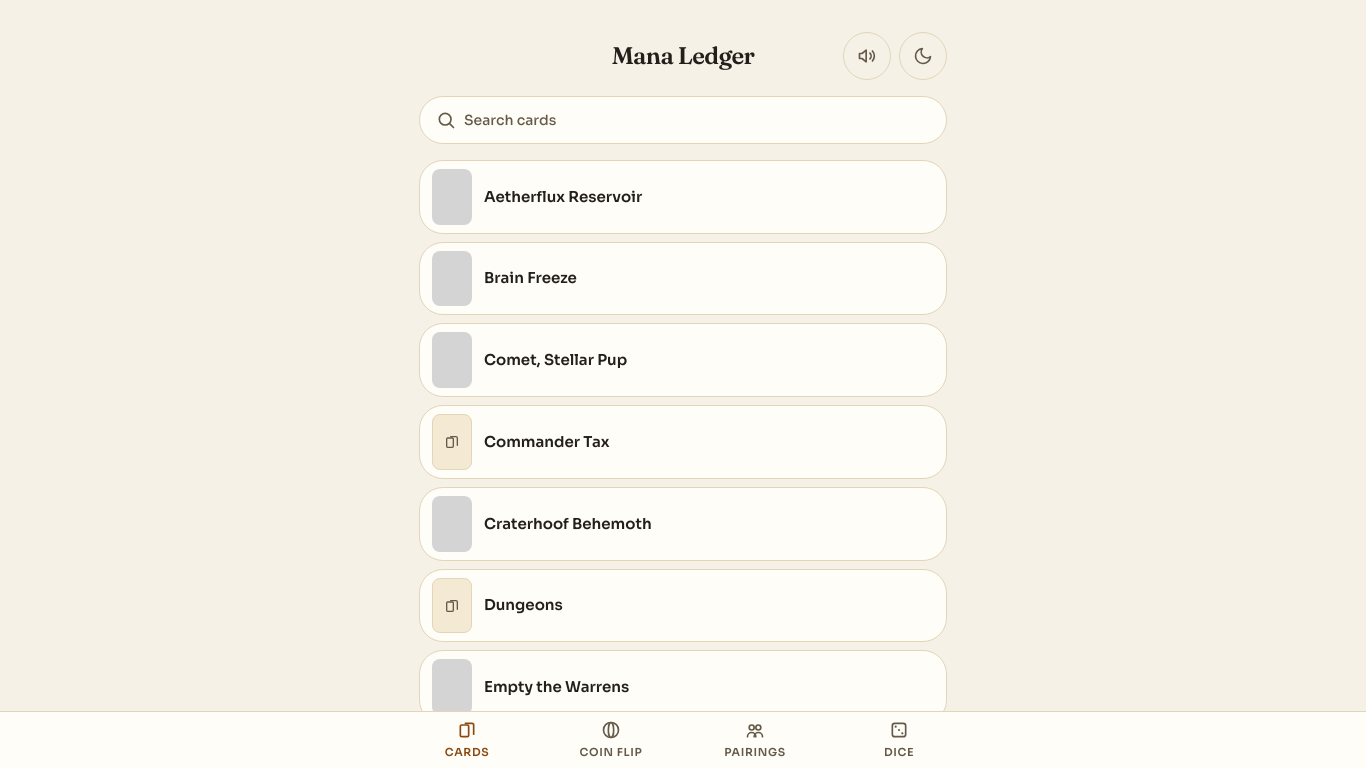
Test case: App › opens the coin flip tab and keeps the tab bar
Click the button "Coin Flip" at (611, 740), box [539,712,683,767]
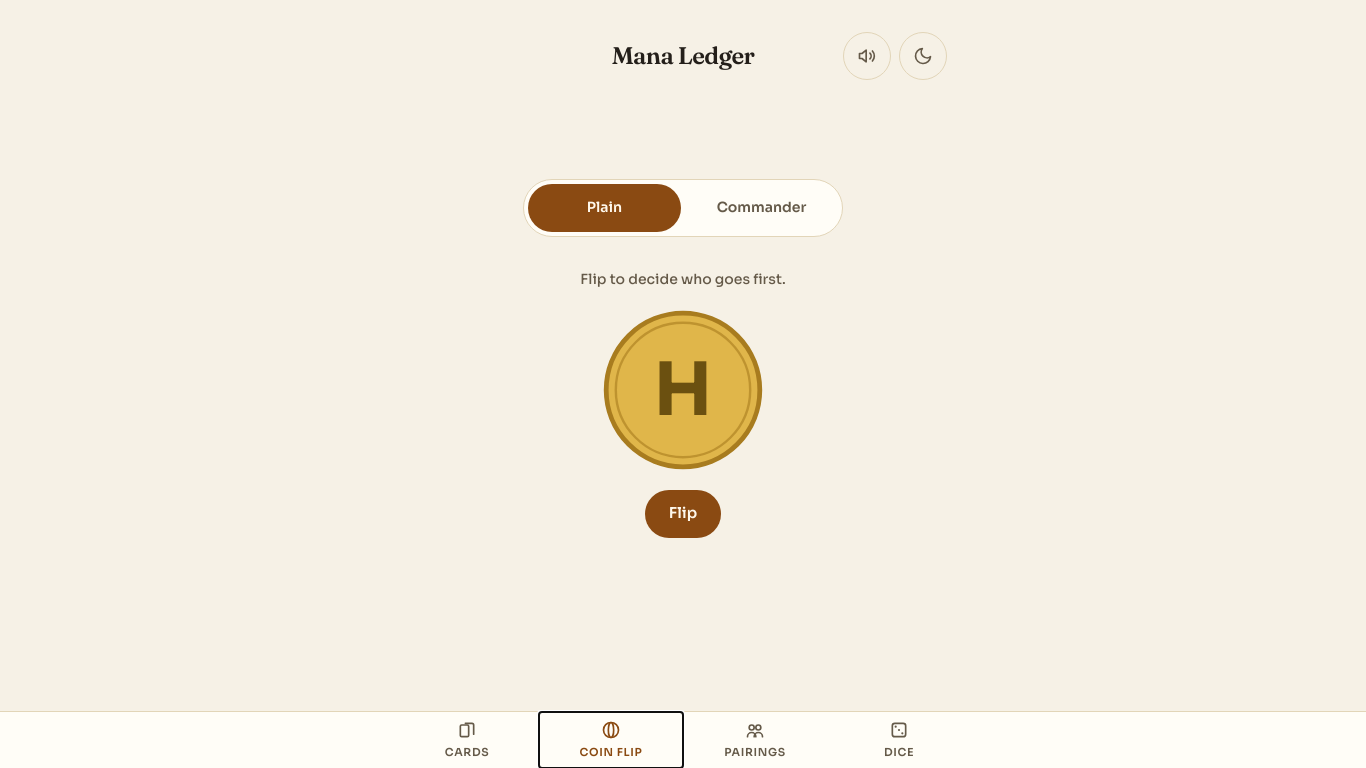
Expected: the button "Cards" is shown, [395,712,539,767]
Result: the button "Flip" is shown at [645,490,721,538]
